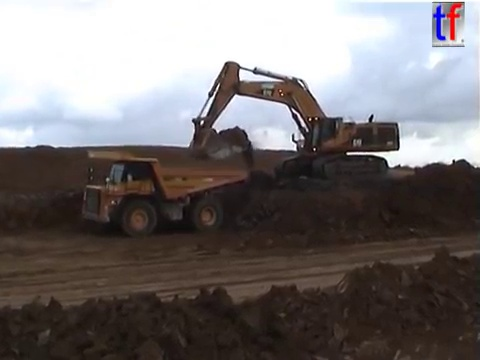excavator: (185, 58, 403, 182)
truck: (74, 147, 249, 238)
